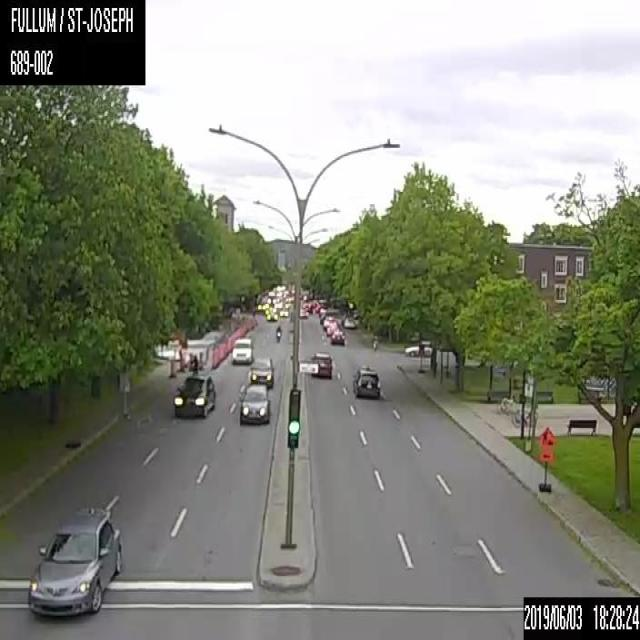construction: (536, 427, 554, 492), (197, 349, 205, 372), (177, 351, 185, 372), (168, 356, 175, 377), (209, 348, 216, 368)
cyclist: (186, 352, 197, 374)
vehicle: (24, 506, 122, 614), (172, 371, 215, 417), (239, 384, 270, 425), (353, 365, 379, 399), (248, 357, 275, 388), (309, 349, 331, 379), (231, 336, 254, 364), (404, 339, 432, 356), (330, 329, 345, 344), (274, 322, 282, 342), (343, 316, 355, 328), (371, 332, 377, 352), (266, 311, 278, 320), (279, 309, 288, 316)
